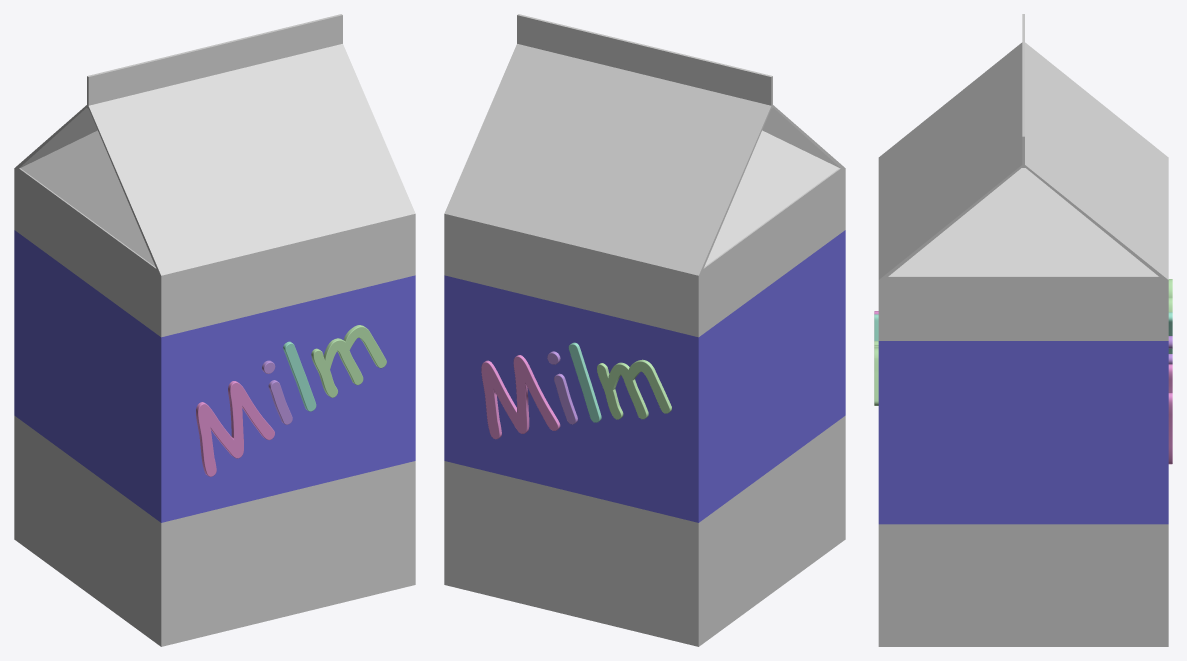
The model's file is Milm.fbx.
The picture shows the model from 3 angles, left to right: view 1: azimuth 30°, elevation 25°; view 2: azimuth 150°, elevation 25°; view 3: azimuth 270°, elevation 25°; orthographic projection.
Visible parts, largest first — view 1: Milm; view 2: Milm; view 3: Milm.
Boxes of the visible parts, x1,y1,x2,y2 form: Milm: [14, 14, 415, 646]; Milm: [444, 14, 845, 646]; Milm: [874, 14, 1172, 646].
Size of the model in its own units: 200 by 388 by 206.
